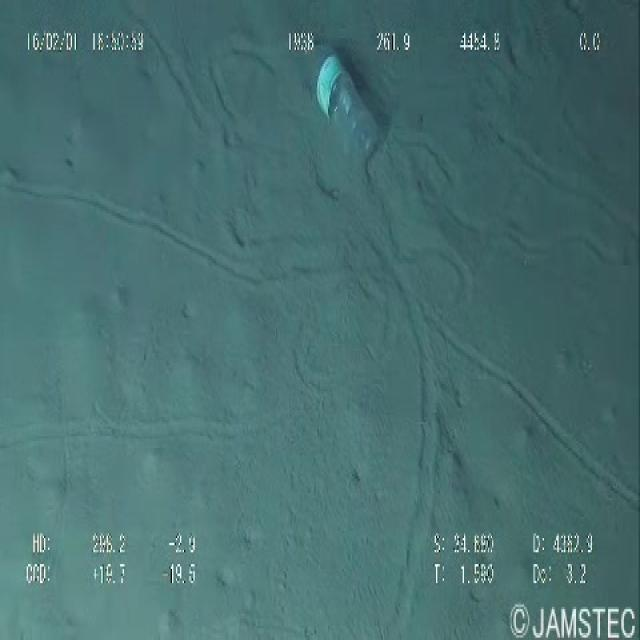plastic: (295, 26, 400, 183)
